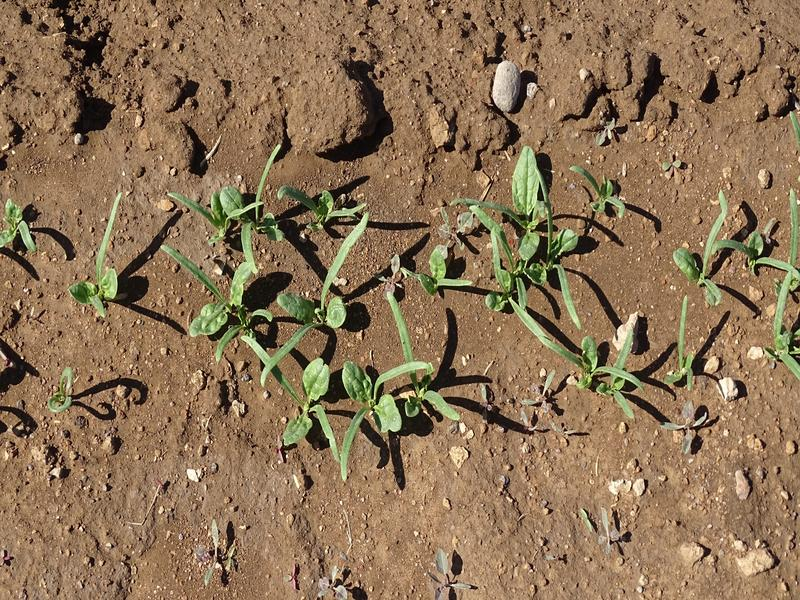Espinaca: (157, 153, 669, 484), (674, 192, 800, 382), (63, 187, 129, 318), (1, 197, 44, 258)
